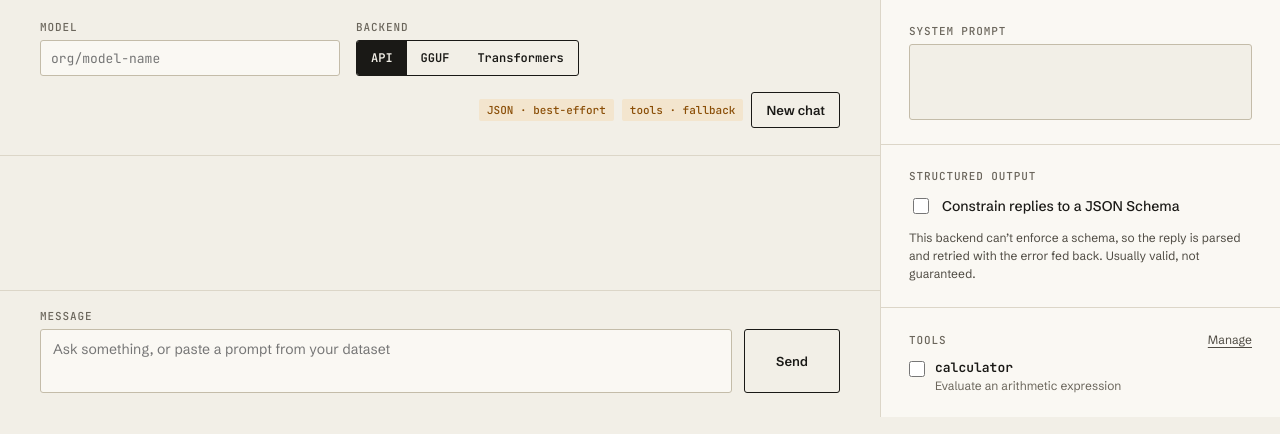
Test: PlaygroundPage › shows the empty-backend hint instead of crashing when switching to a backend with nothing downloaded
The image size is (1280, 434).
Expected: the text "calculator" is shown, [935, 359, 1013, 376]
Step 1. Click the button "GGUF" → (435, 58), box [407, 41, 463, 75]
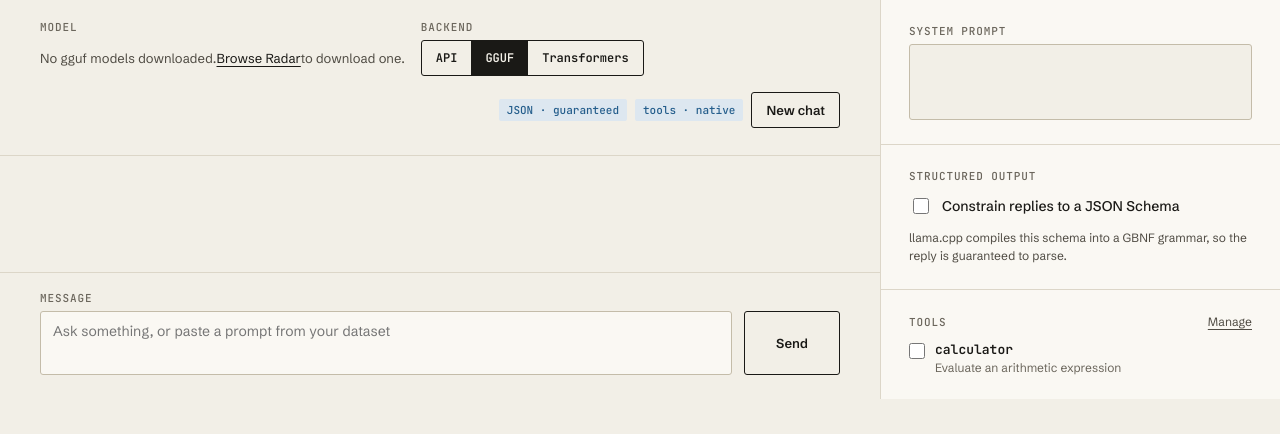
Expected: the button "Send" is disabled, [744, 311, 840, 375]
Expected: the text "No gguf models downloaded. Browse Radar to download one." is shown, [40, 50, 405, 66]
